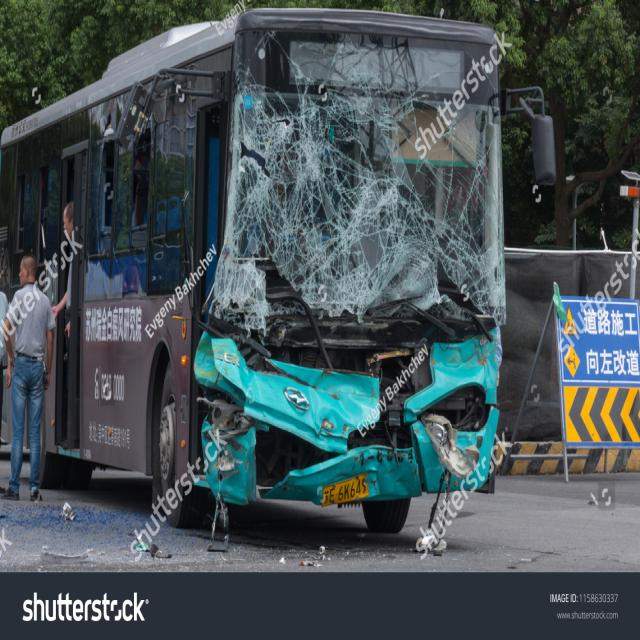Accident: (0, 0, 563, 540)
